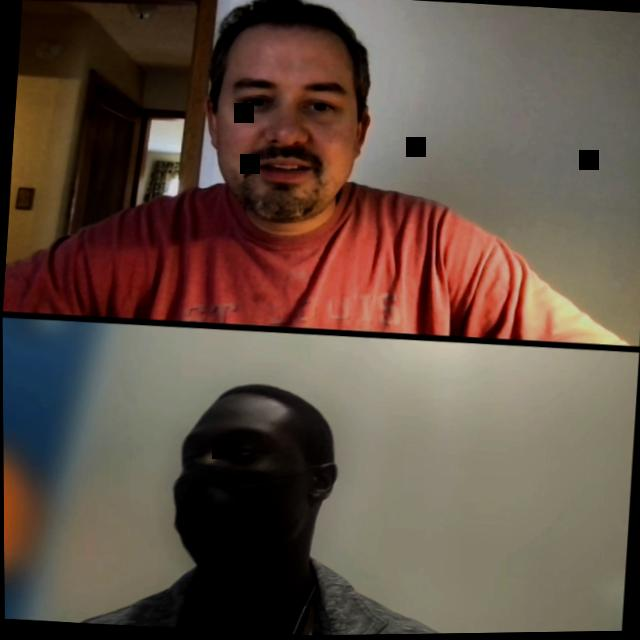Mask: (164, 385, 342, 587)
NO-Mask: (192, 15, 378, 232)
